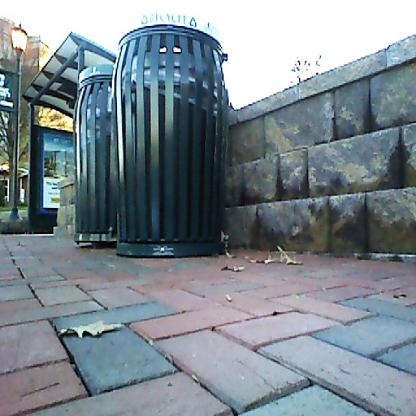Edge: (71, 108, 416, 275)
Sidewalk: (0, 235, 416, 416)
